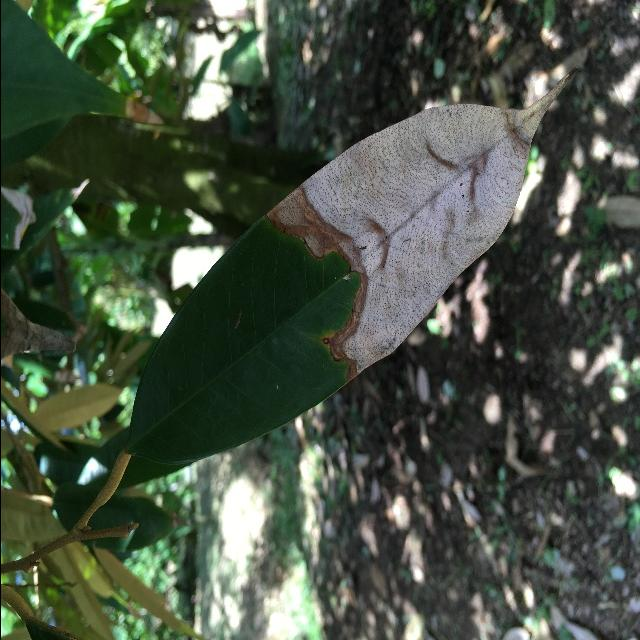Leaf Blight: (119, 72, 581, 471)
